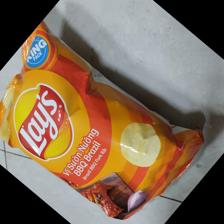Lays: (4, 23, 205, 218)
